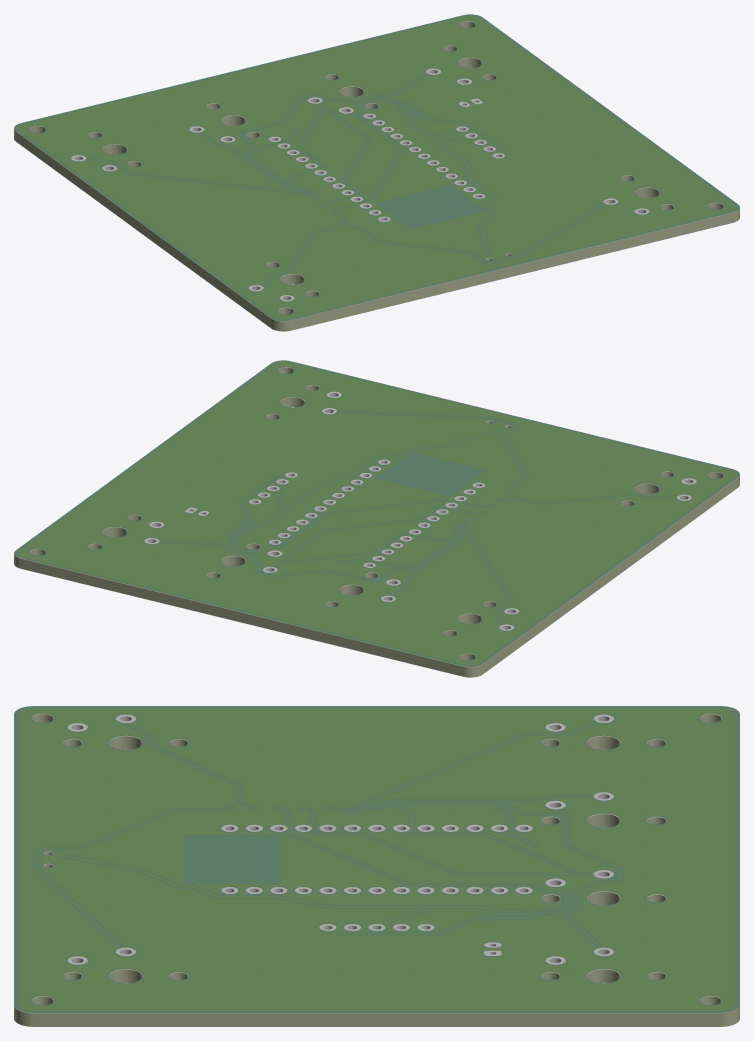
File: board.glb
3 views of the same model, one above another, from view 1: azimuth 30°, elevation 25°; view 2: azimuth 150°, elevation 25°; view 3: azimuth 270°, elevation 25° (orthographic). The views are drawn at different scales.
Parts seen in each view (by area): view 1: =>[0:1:1:5], =>[0:1:1:2], =>[0:1:1:7], =>[0:1:1:3], =>[0:1:1:6]; view 2: =>[0:1:1:5], =>[0:1:1:2], =>[0:1:1:7], =>[0:1:1:3], =>[0:1:1:6]; view 3: =>[0:1:1:5], =>[0:1:1:2], =>[0:1:1:7], =>[0:1:1:3], =>[0:1:1:6].
Part boxes in pixels (x1,y1,x2,y2): =>[0:1:1:5]: (14, 14, 739, 321); =>[0:1:1:2]: (18, 16, 735, 319); =>[0:1:1:7]: (14, 15, 739, 331); =>[0:1:1:3]: (71, 68, 649, 301); =>[0:1:1:6]: (14, 67, 739, 331); =>[0:1:1:5]: (14, 360, 739, 667); =>[0:1:1:2]: (18, 362, 735, 665); =>[0:1:1:7]: (14, 361, 739, 677); =>[0:1:1:3]: (144, 392, 696, 630); =>[0:1:1:6]: (14, 486, 739, 677); =>[0:1:1:5]: (14, 706, 739, 1012); =>[0:1:1:2]: (19, 709, 734, 1010); =>[0:1:1:7]: (14, 707, 739, 1026); =>[0:1:1:3]: (68, 714, 613, 964); =>[0:1:1:6]: (14, 749, 739, 1026).
Bounding box in the file's own units: 0.0752 × 0.00161 × 0.0752.
